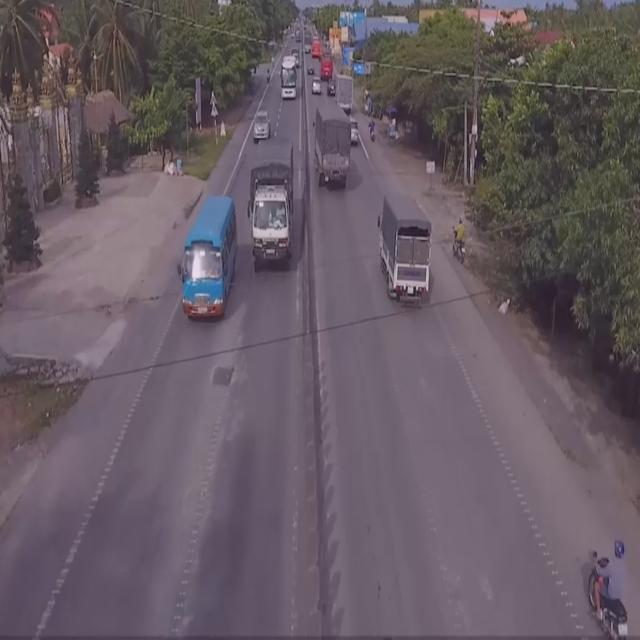bus: (178, 191, 240, 326), (278, 55, 298, 101)
car: (252, 104, 274, 143), (350, 120, 361, 150)
motorbike: (586, 541, 640, 640), (449, 216, 466, 270)
truck: (376, 193, 436, 313), (248, 133, 294, 274), (314, 108, 351, 201)
